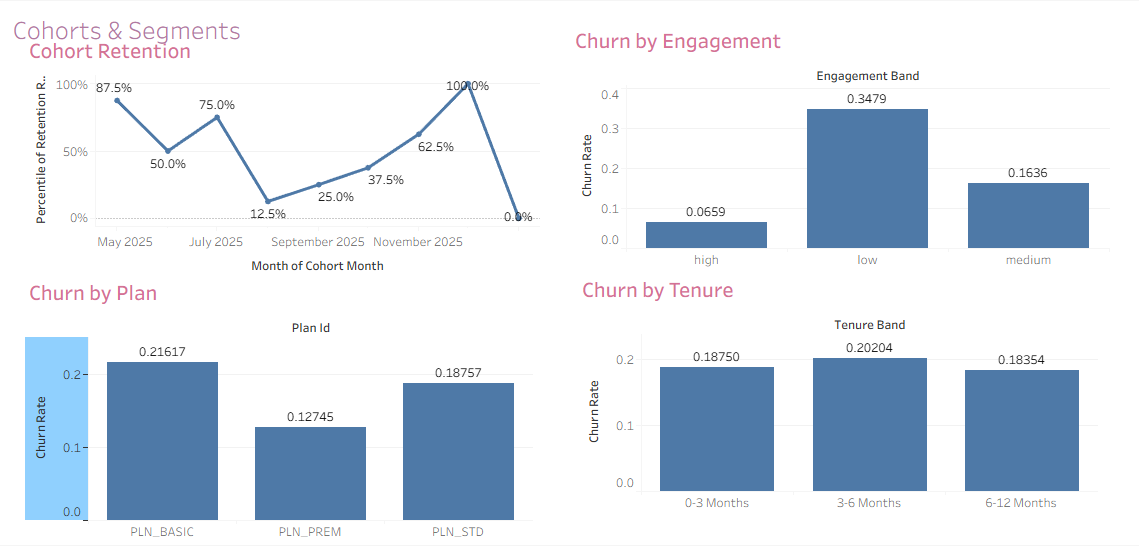

What the dashboard file says about the page in this screenshot:
{"tool":"tableau","page":{"name":"Cohorts & Segments","canvas":[1000,1000],"units":"permille","ordinal":0},"visuals":[{"type":"title","box":[7,14.7,986,77.2]},{"type":"worksheet","title":"Churn by Engagement","mark":"Automatic","rows":["Calculation_774056233002156036"],"cols":["engagement_band"],"box":[502.2,38.6,472.4,454]},{"type":"worksheet","title":"Cohort Retention","mark":"Automatic","rows":["Calculation_774056233002459141"],"cols":["Calculation_774056233013698569"],"box":[23.7,57,451.4,457.7]},{"type":"worksheet","title":"Churn by Tenure","mark":"Automatic","rows":["Calculation_774056233002156036"],"cols":["Calculation_774056233015726090"],"box":[508.3,496.3,455.7,477.9]},{"type":"worksheet","title":"Churn by Plan","mark":"Automatic","rows":["Calculation_774056233002156036"],"cols":["plan_id"],"box":[23.7,501.8,445.2,490.8]}]}

Visuals, with their boxes on the dashboard's canvas, which has no fixed pixel size, in thousandths of its width and height (x1, y1, x2, y2). These are canvas units, not pixel positions in the 1139x546 screenshot, which may show the page scaled, cropped or inside an application window:
title: region(7, 15, 993, 92)
"Churn by Engagement" worksheet: region(502, 39, 975, 493)
"Cohort Retention" worksheet: region(24, 57, 475, 515)
"Churn by Tenure" worksheet: region(508, 496, 964, 974)
"Churn by Plan" worksheet: region(24, 502, 469, 993)
